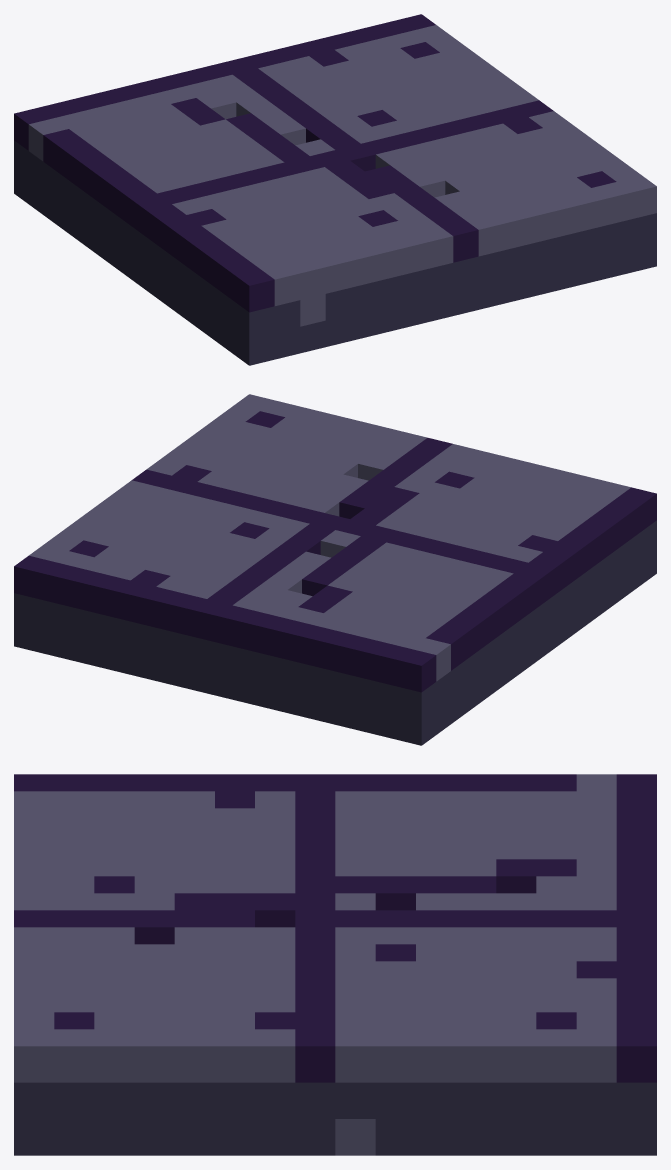
The model's file is floor_stone_worn_b.obj.
The picture shows the model from 3 angles, top to bottom: view 1: azimuth 30°, elevation 25°; view 2: azimuth 150°, elevation 25°; view 3: azimuth 270°, elevation 25°; orthographic projection. The views are drawn at different scales.
Visible parts, largest first — view 1: floor_stone_worn_b; view 2: floor_stone_worn_b; view 3: floor_stone_worn_b.
Part boxes in pixels (left/top/right/bottom): floor_stone_worn_b: left=14, top=14, right=656, bottom=365; floor_stone_worn_b: left=14, top=394, right=656, bottom=745; floor_stone_worn_b: left=14, top=774, right=656, bottom=1155.
Bounding box in the file's own units: 1 × 0.1875 × 1.
Materials: 1 (1 with a texture image).
